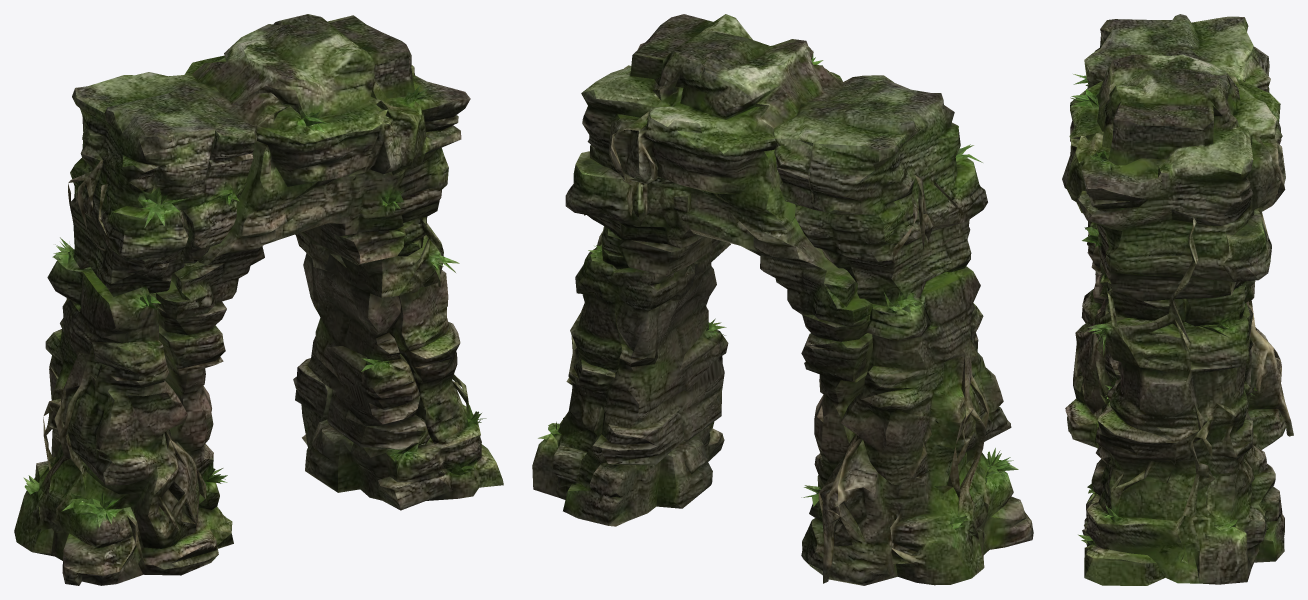
Rendered from moss_archway.glb.
3 views of the same model, side by side, from view 1: azimuth 30°, elevation 25°; view 2: azimuth 150°, elevation 25°; view 3: azimuth 270°, elevation 25° (orthographic). The views are drawn at different scales.
Visible parts, largest first — view 1: moss_archway; view 2: moss_archway; view 3: moss_archway.
Boxes of the visible parts, x1,y1,x2,y2 form: moss_archway: (14,14,503,585); moss_archway: (532,14,1033,585); moss_archway: (1062,14,1293,585).
Size of the model in its own units: 1.89 by 1.9 by 0.9126.
1 material, 1 textured.
